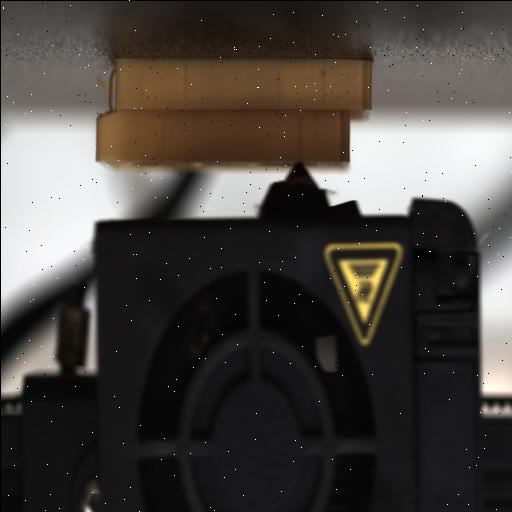layer_shift: (96, 97, 372, 125)
